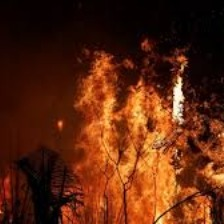incendio: (68, 54, 198, 224)
